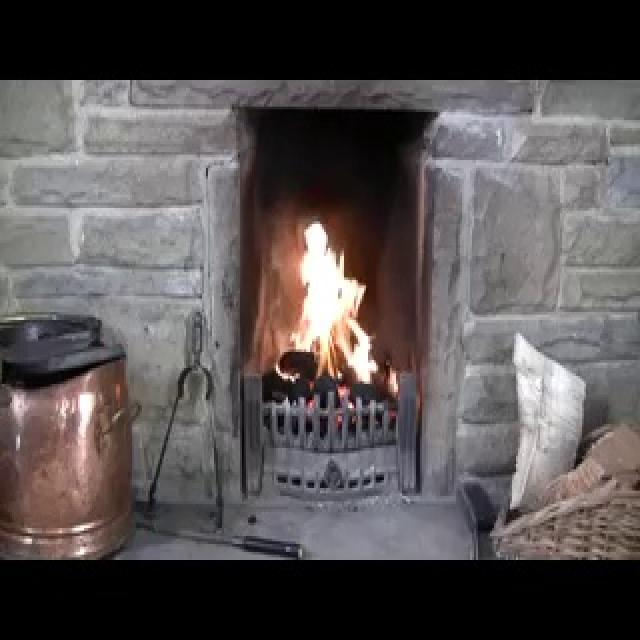fire: (279, 160, 379, 390)
